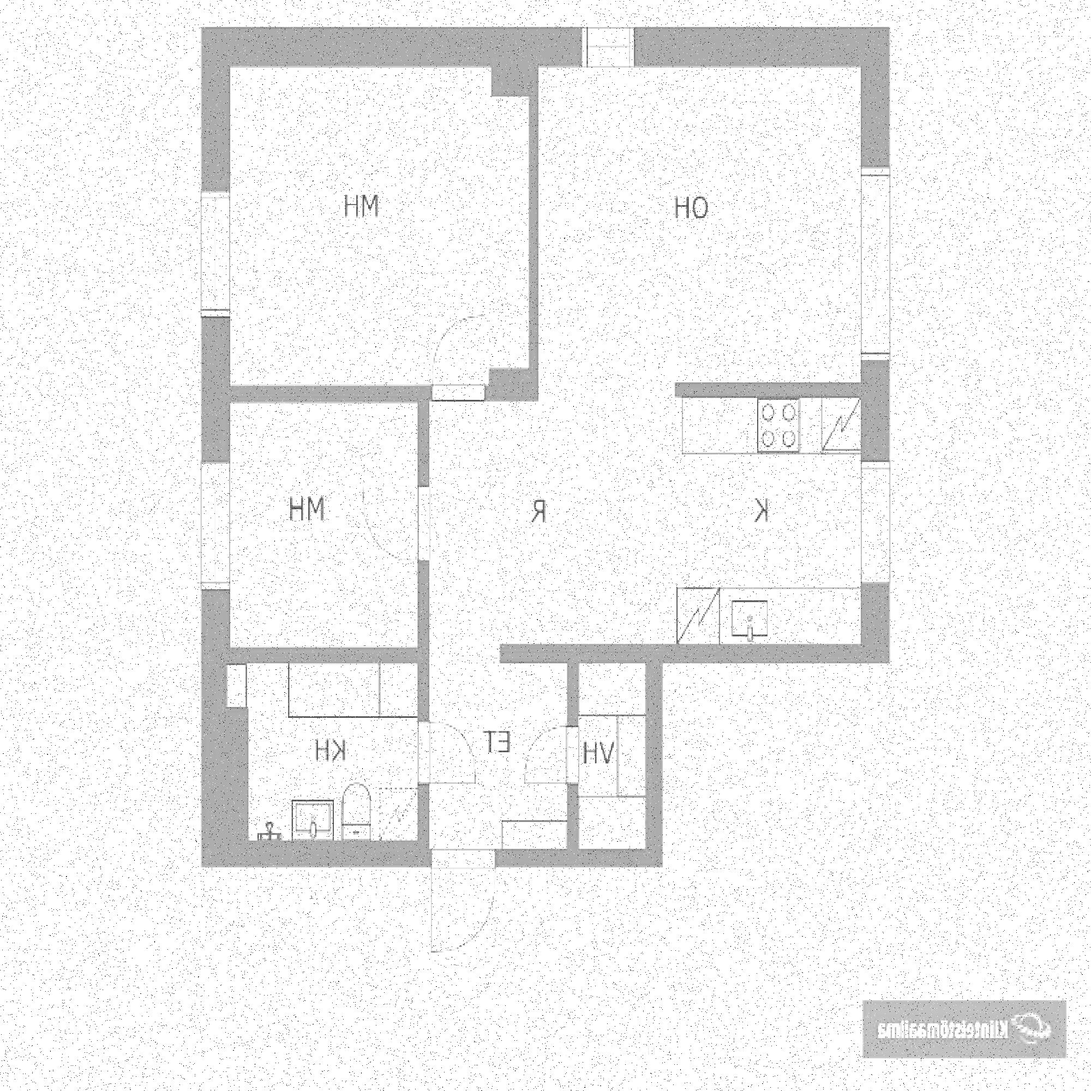wall: (200, 28, 230, 662), (861, 28, 889, 662), (529, 28, 889, 67), (200, 28, 491, 67), (200, 708, 247, 866), (200, 841, 428, 866), (646, 644, 889, 662), (429, 850, 662, 866), (646, 643, 662, 866), (200, 385, 428, 400), (529, 28, 538, 400), (417, 385, 429, 662), (675, 382, 889, 397), (200, 647, 428, 661), (500, 643, 645, 661), (491, 28, 529, 96), (568, 644, 579, 866), (417, 647, 428, 866), (429, 385, 538, 400), (200, 648, 227, 708), (488, 367, 529, 385)
